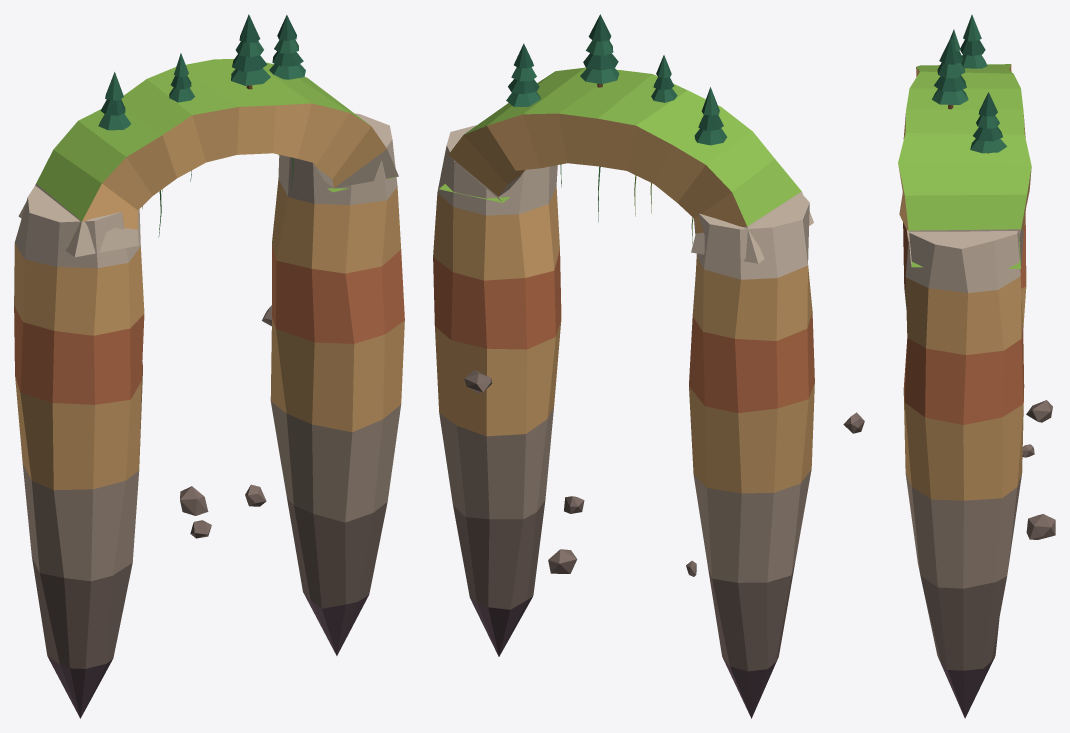
The model's file is island_arch.glb.
3 renders of one model, left to right at view 1: azimuth 30°, elevation 25°; view 2: azimuth 150°, elevation 25°; view 3: azimuth 270°, elevation 25°, orthographic. The views are drawn at different scales.
Visible parts, largest first — view 1: Island-col, Dressing, Debris; view 2: Island-col, Dressing, Debris; view 3: Island-col, Dressing, Debris.
Boxes of the visible parts, bbox=[...] form: Island-col: bbox=[14, 59, 404, 718]; Dressing: bbox=[98, 14, 305, 130]; Debris: bbox=[180, 305, 271, 538]; Island-col: bbox=[433, 67, 814, 718]; Dressing: bbox=[506, 14, 726, 145]; Debris: bbox=[464, 370, 696, 576]; Island-col: bbox=[898, 64, 1031, 718]; Dressing: bbox=[932, 14, 1006, 153]; Debris: bbox=[843, 400, 1055, 539].
Bounding box in the file's own units: 49.72 × 85.03 × 25.65.
